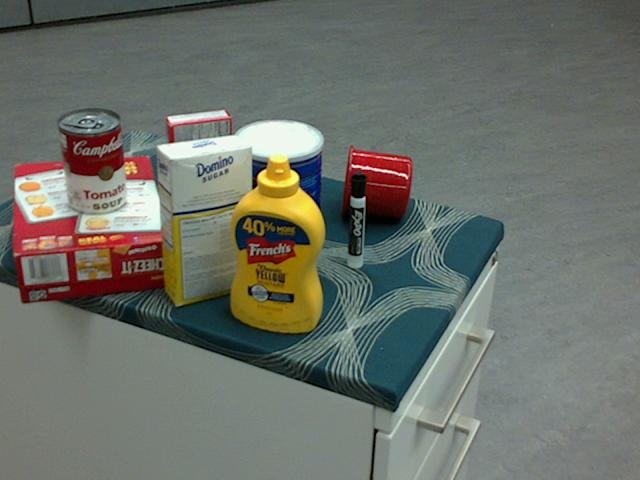cracker_box: (13, 153, 173, 302)
gelatin_box: (165, 109, 231, 171)
large_marker: (349, 171, 366, 268)
master_chef_can: (232, 118, 321, 263)
mug: (340, 143, 411, 218)
mustard_bottle: (230, 152, 325, 333)
potted_meat_can: (219, 128, 301, 214)
sugar_box: (155, 134, 252, 305)
tomato_soup_can: (57, 108, 126, 214)
tuna_fish_can: (159, 157, 188, 227)
